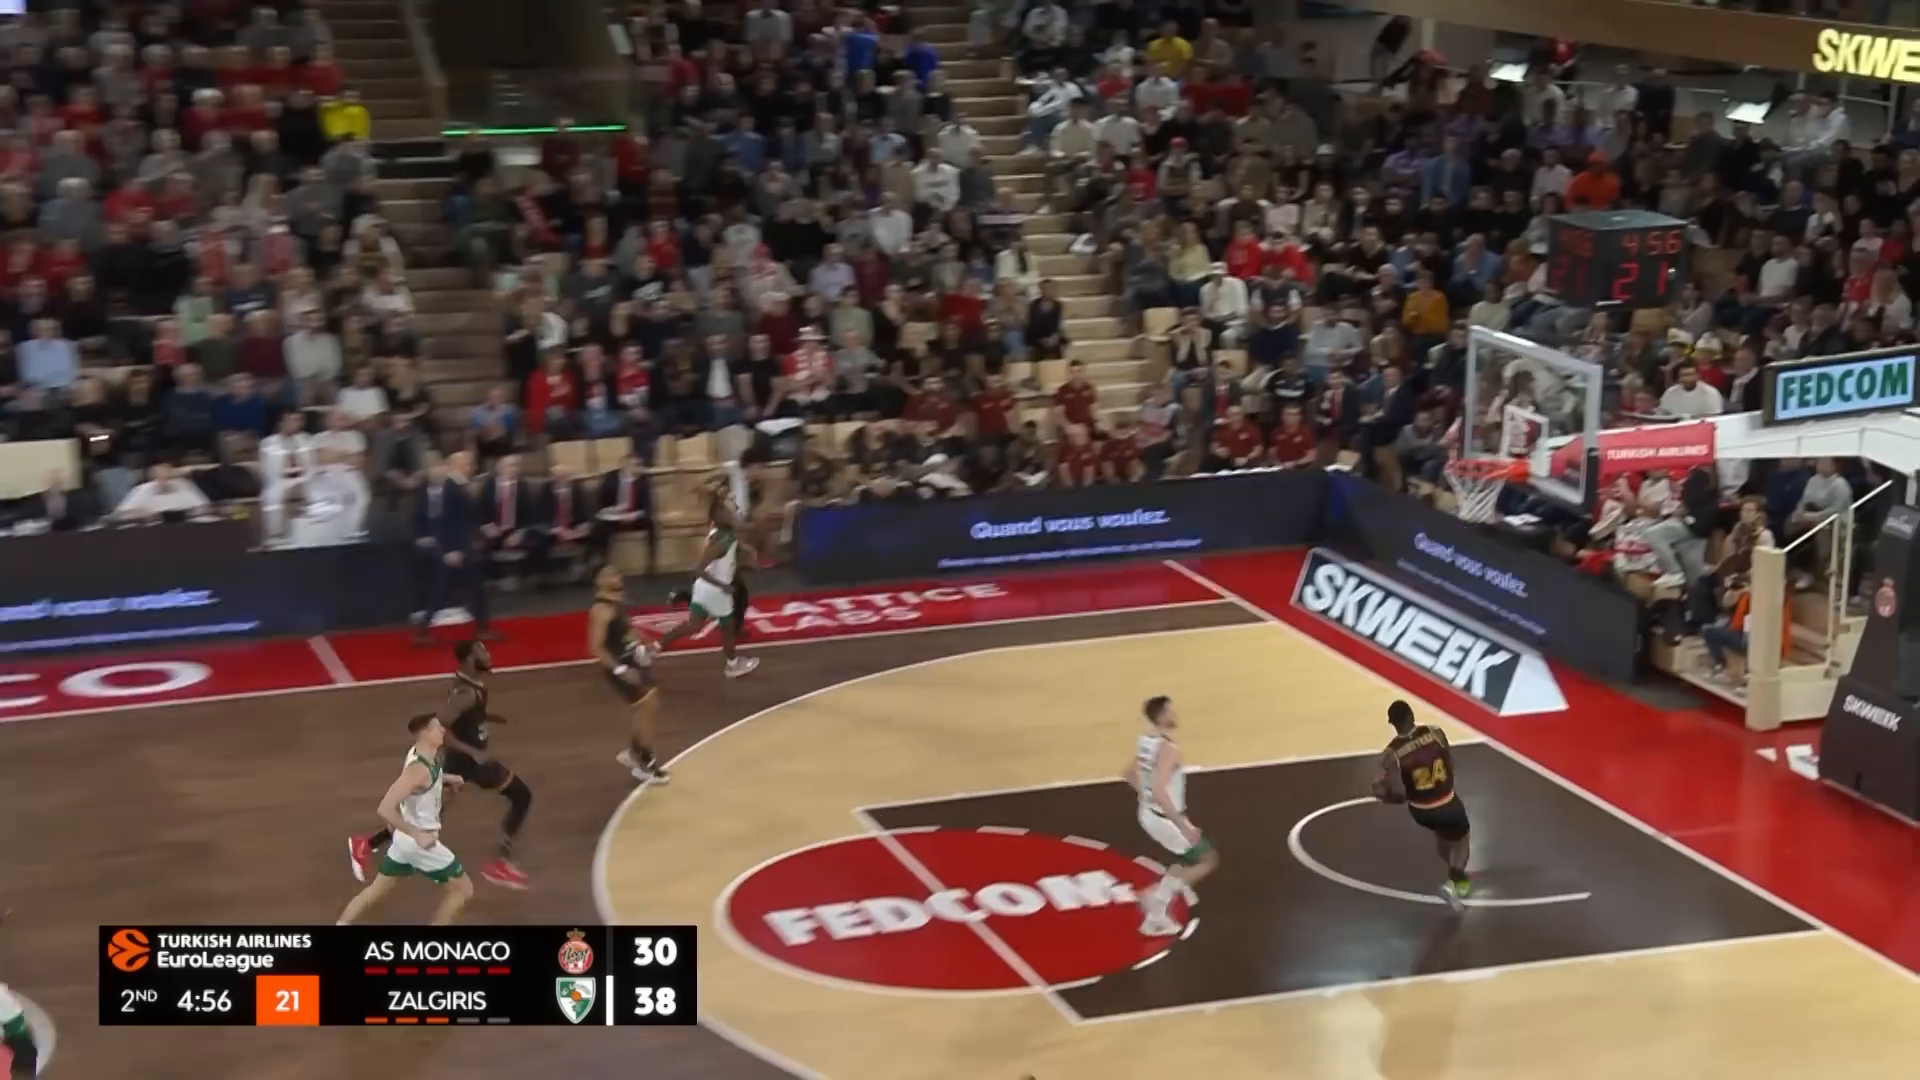net: (1441, 452, 1505, 524)
